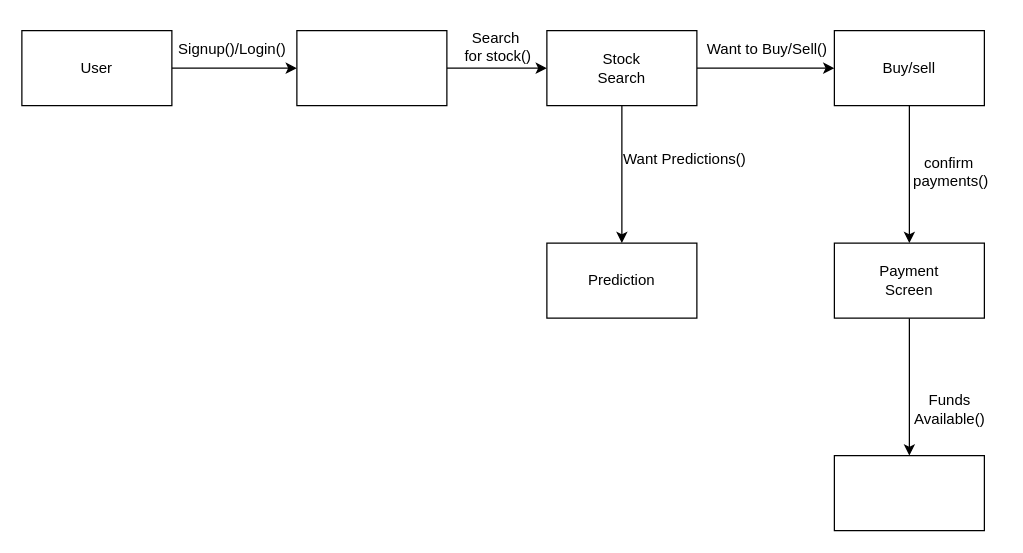
This 1023x553 diagram has some shape labels left out. The centre of each missing label's shape, as x and y in pixels:
"Confirmation" goes at [908,492].
"Dashboard" goes at [371,67].
